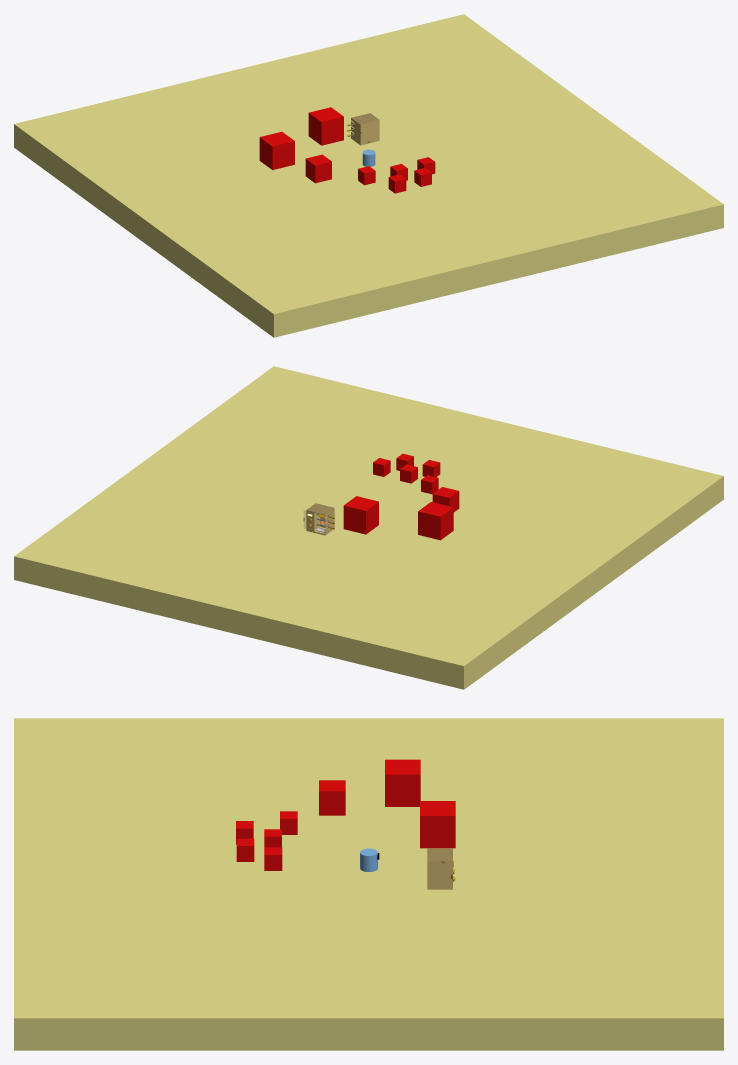
File: animation_test.glb
The picture shows the model from 3 angles, top to bottom: view 1: azimuth 30°, elevation 25°; view 2: azimuth 150°, elevation 25°; view 3: azimuth 270°, elevation 25°; orthographic projection. The views are drawn at different scales.
Parts seen in each view (by area): view 1: Floor, Interactable, Interactable.001, Machine Body, Interactable.002; view 2: Floor, Interactable, Interactable.001, Machine Body; view 3: Floor, Interactable, Interactable.001, Machine Body, Interactable.002.
Part boxes in pixels (x1,y1,x2,y2): Floor: (14,14,723,337); Interactable: (308,107,343,145); Interactable.001: (259,131,294,169); Machine Body: (351,113,379,145); Interactable.002: (305,154,331,183); Floor: (14,366,723,689); Interactable: (343,496,378,534); Interactable.001: (418,502,453,540); Machine Body: (306,503,334,535); Floor: (14,718,723,1050); Interactable: (420,801,455,848); Interactable.001: (385,759,420,806); Machine Body: (427,848,452,889); Interactable.002: (319,780,345,815).
Size of the model in its own units: 20 by 2.5 by 20.
